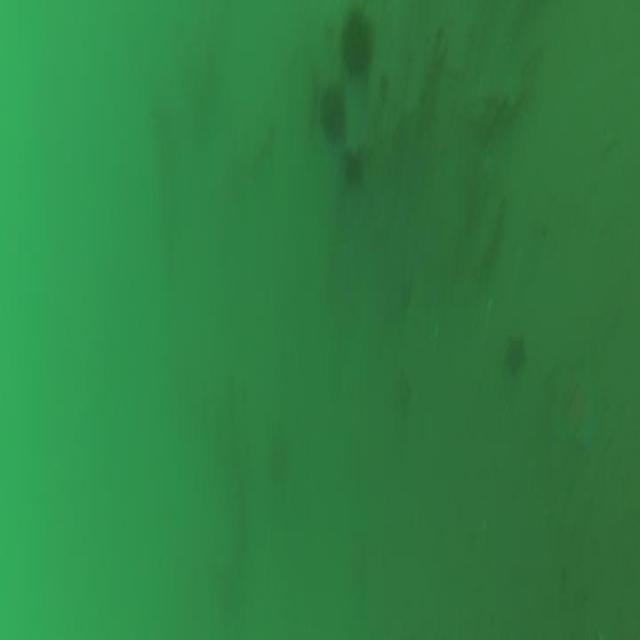echinus: (333, 1, 379, 86), (312, 70, 351, 156)
holothurian: (478, 188, 507, 272)
